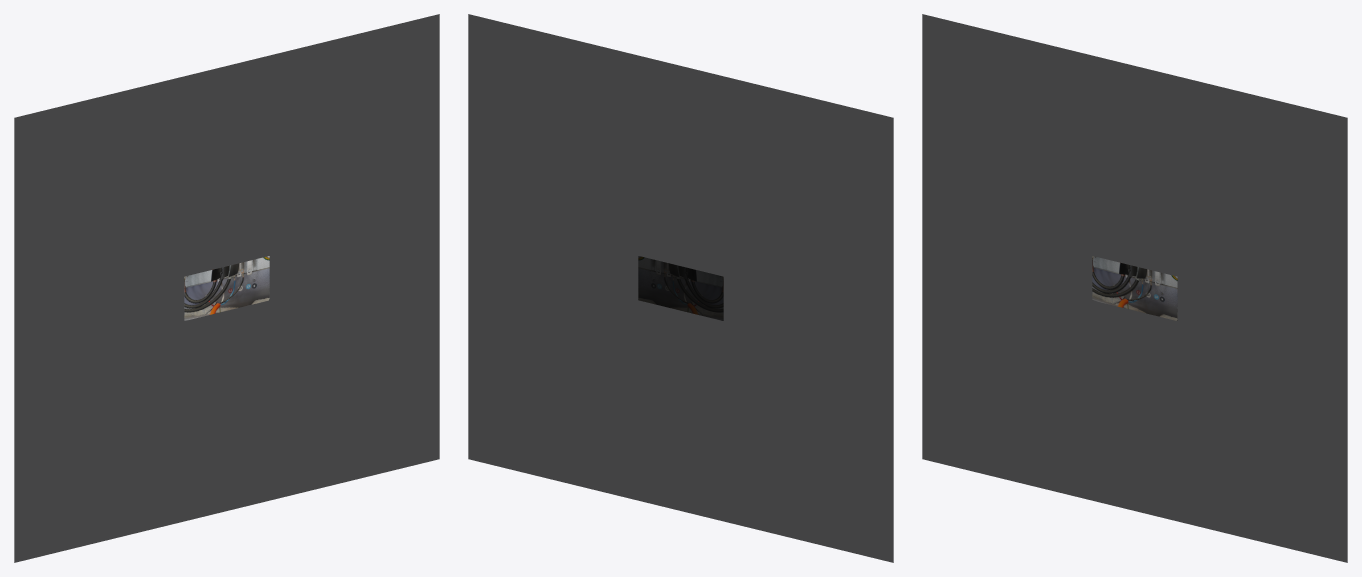
Rendered from wiring-03-final.glb.
3 renders of one model, left to right at view 1: azimuth 30°, elevation 25°; view 2: azimuth 150°, elevation 25°; view 3: azimuth 330°, elevation 25°, orthographic.
Visible parts, largest first — view 1: background, wiring-03; view 2: background, wiring-03; view 3: background, wiring-03.
Boxes of the visible parts, x1=… form: background: x1=14, y1=14, x2=439, y2=562; wiring-03: x1=184, y1=256, x2=269, y2=320; background: x1=468, y1=14, x2=893, y2=562; wiring-03: x1=638, y1=256, x2=723, y2=320; background: x1=922, y1=14, x2=1347, y2=562; wiring-03: x1=1092, y1=256, x2=1177, y2=320.
Size of the model in its own units: 10 by 10 by 0.001.
2 materials, 1 textured.
